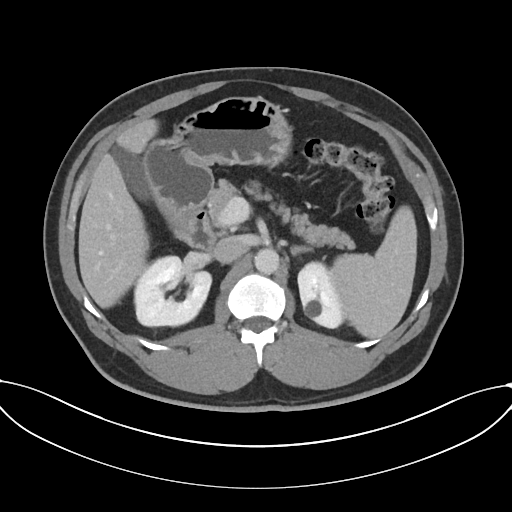Lesion: (301, 298, 326, 319)
